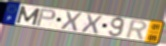9: (107, 17, 126, 39)
M: (15, 5, 42, 27)
P: (35, 8, 57, 28)
R: (124, 19, 149, 42)
X: (59, 10, 83, 33), (80, 13, 104, 35)
